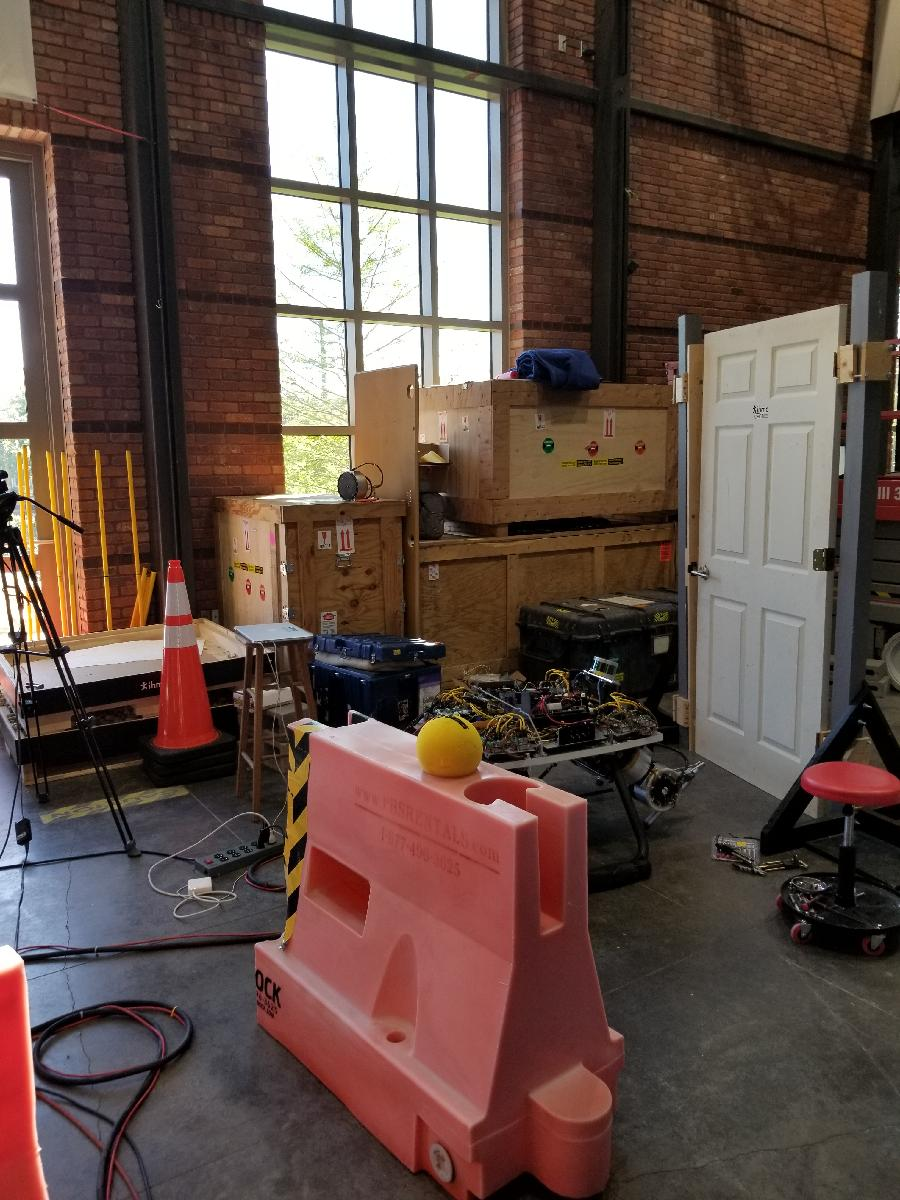door: (689, 300, 850, 828)
doorHandle: (697, 564, 716, 585)
